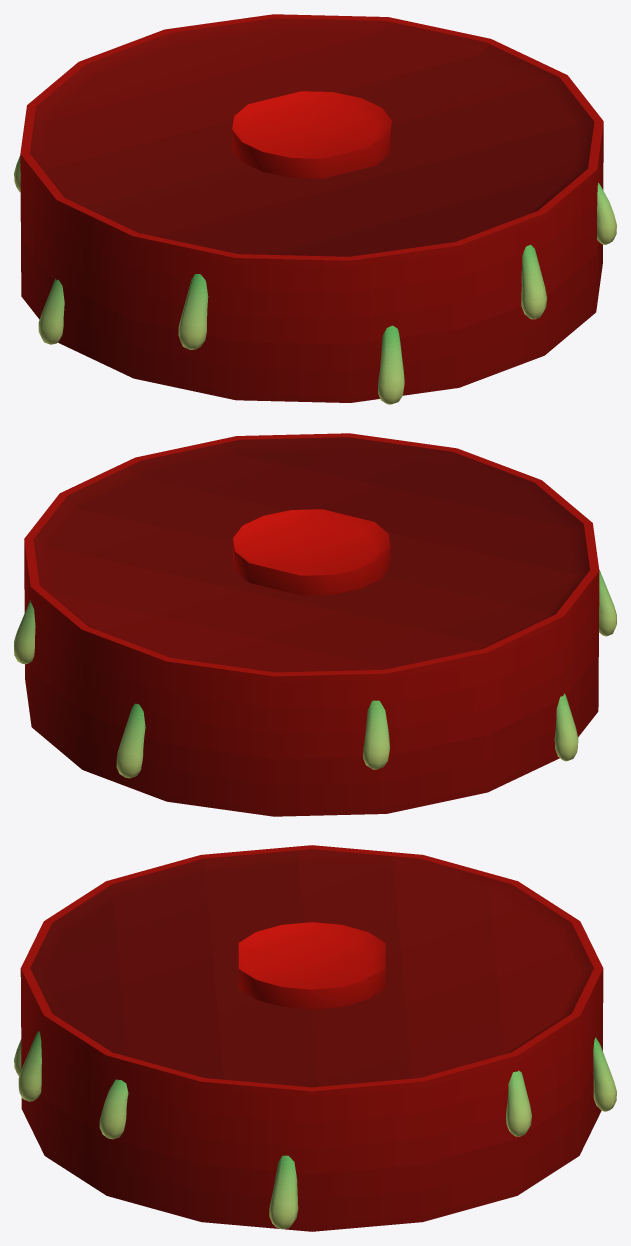
The model's file is Demon_Flesh_adjusted.fbx.
3 renders of one model, top to bottom at view 1: azimuth 30°, elevation 25°; view 2: azimuth 150°, elevation 25°; view 3: azimuth 270°, elevation 25°, orthographic.
Parts seen in each view (by area): view 1: Demon_Flesh_adjusted; view 2: Demon_Flesh_adjusted; view 3: Demon_Flesh_adjusted.
Boxes of the visible parts, x1,y1,x2,y2 form: Demon_Flesh_adjusted: (14,14,616,404); Demon_Flesh_adjusted: (14,433,616,816); Demon_Flesh_adjusted: (14,845,616,1231).
Size of the model in its own units: 6.33 by 1.77 by 6.21.
